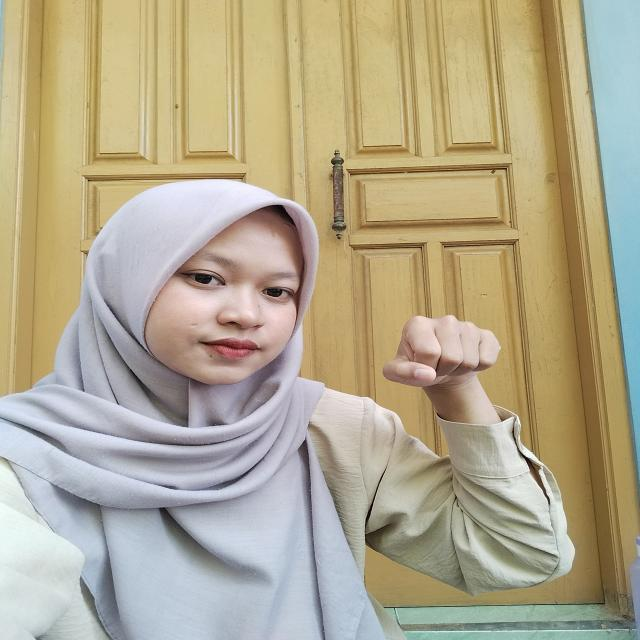baik: (356, 306, 565, 490)
